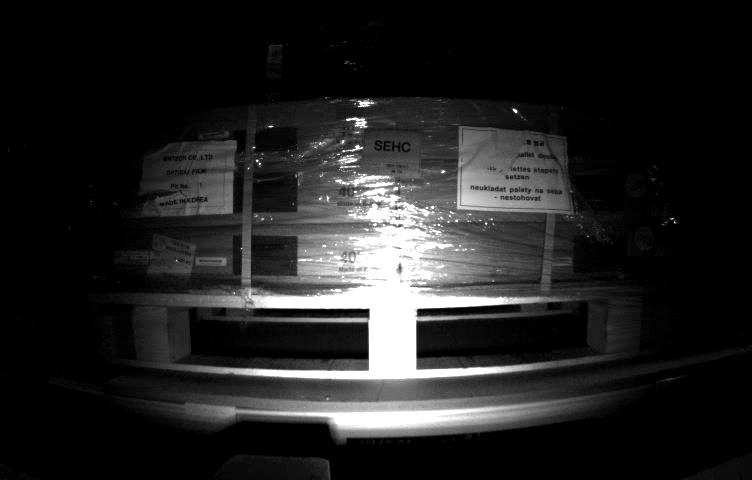True Barcode: (149, 233, 193, 288)
